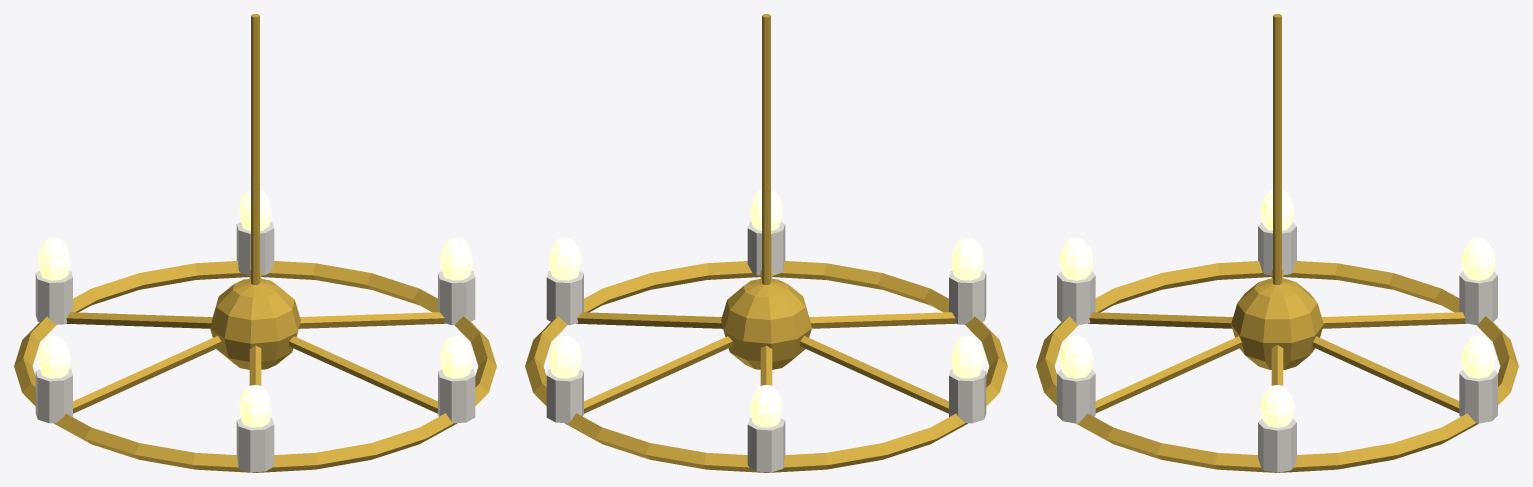
Rendered from chandelier.glb.
3 renders of one model, left to right at view 1: azimuth 30°, elevation 25°; view 2: azimuth 150°, elevation 25°; view 3: azimuth 270°, elevation 25°, orthographic.
Parts seen in each view (by area): view 1: chandelier, bulbs; view 2: chandelier, bulbs; view 3: chandelier, bulbs.
Boxes of the visible parts, x1=… form: chandelier: x1=14, y1=14, x2=496, y2=472; bulbs: x1=38, y1=189, x2=472, y2=427; chandelier: x1=525, y1=14, x2=1007, y2=472; bulbs: x1=549, y1=189, x2=983, y2=427; chandelier: x1=1036, y1=14, x2=1518, y2=472; bulbs: x1=1059, y1=189, x2=1495, y2=427.
Size of the model in its own units: 0.65 by 0.512 by 0.624.
